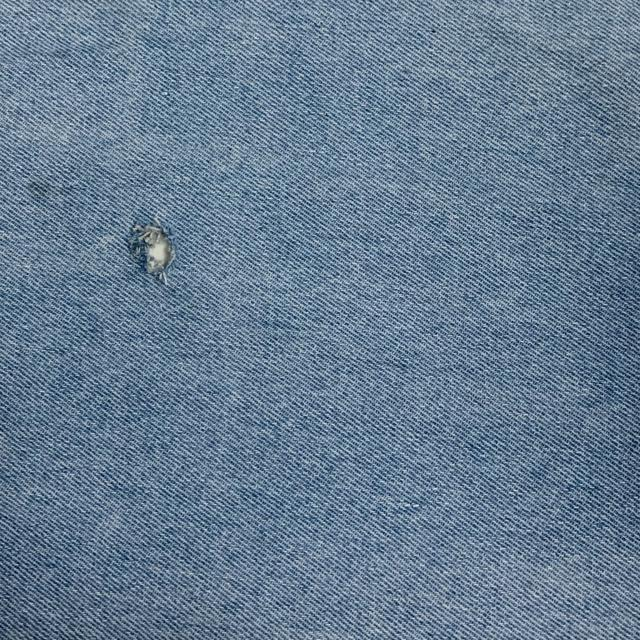other: (74, 208, 234, 308)
